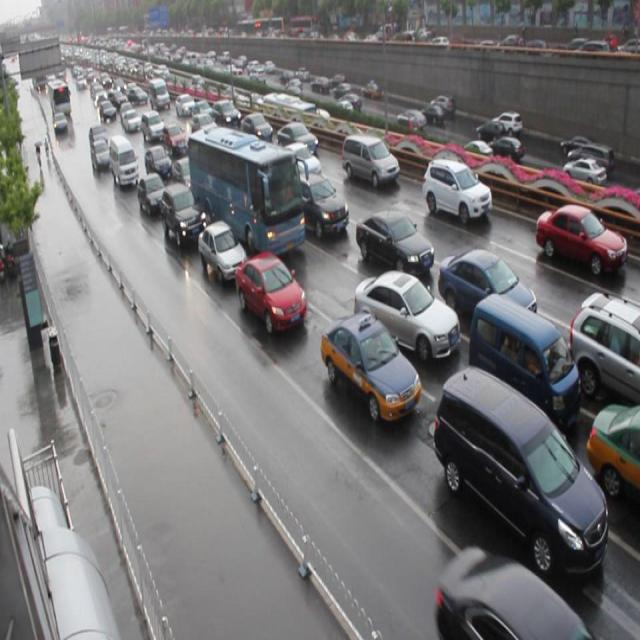car: (434, 543, 594, 640), (319, 312, 420, 418), (353, 269, 459, 359), (567, 291, 640, 404), (437, 248, 537, 326), (534, 202, 625, 273), (233, 251, 306, 331), (584, 402, 640, 506), (355, 208, 433, 274), (422, 158, 492, 222), (296, 171, 348, 237), (198, 219, 248, 278), (163, 181, 204, 242), (280, 141, 321, 184), (278, 120, 318, 158), (137, 171, 166, 213), (240, 112, 272, 144), (171, 157, 197, 193), (146, 144, 172, 180)
truck: (432, 365, 607, 572), (466, 290, 580, 418), (341, 133, 398, 190)
van: (190, 124, 305, 256)
